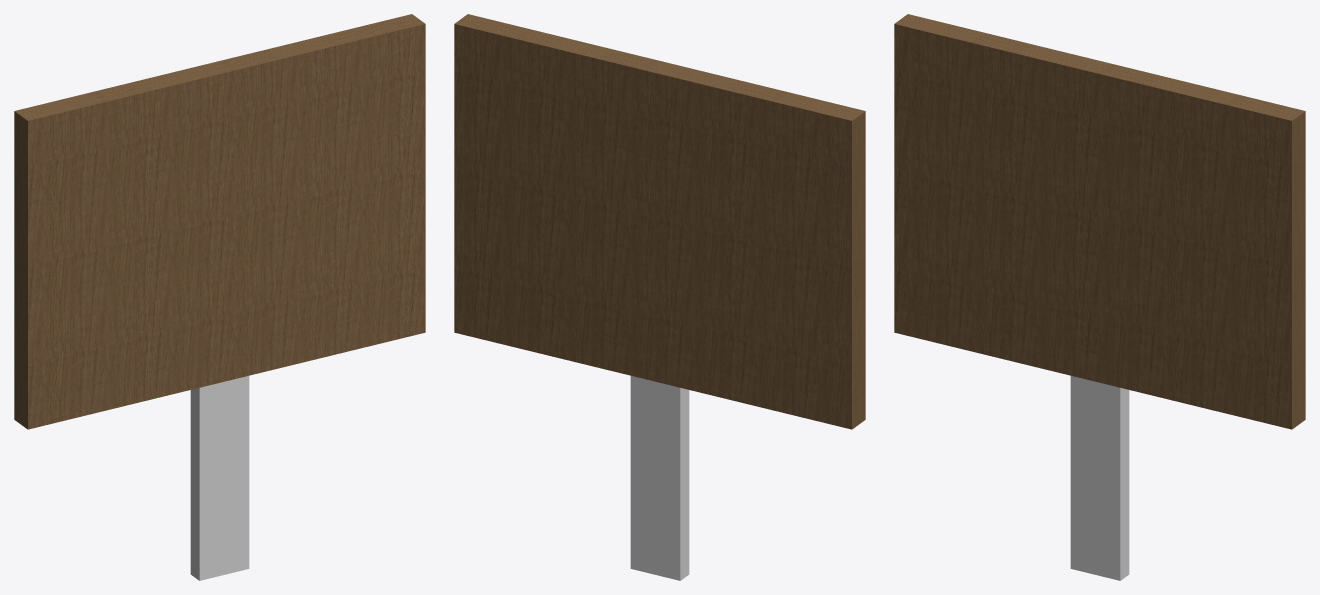
Rendered from 指示牌blend.fbx.
3 renders of one model, left to right at view 1: azimuth 30°, elevation 25°; view 2: azimuth 150°, elevation 25°; view 3: azimuth 330°, elevation 25°, orthographic.
Parts seen in each view (by area): view 1: 立方体, Cube; view 2: 立方体, Cube; view 3: 立方体, Cube.
Part boxes in pixels (box(x1,y1,x2,y2)): 立方体: box(14, 14, 425, 429); Cube: box(190, 376, 249, 580); 立方体: box(454, 14, 865, 429); Cube: box(630, 376, 689, 580); 立方体: box(894, 14, 1305, 429); Cube: box(1070, 376, 1129, 580).
Bounding box in the file's own units: 2081 × 2521 × 123.
